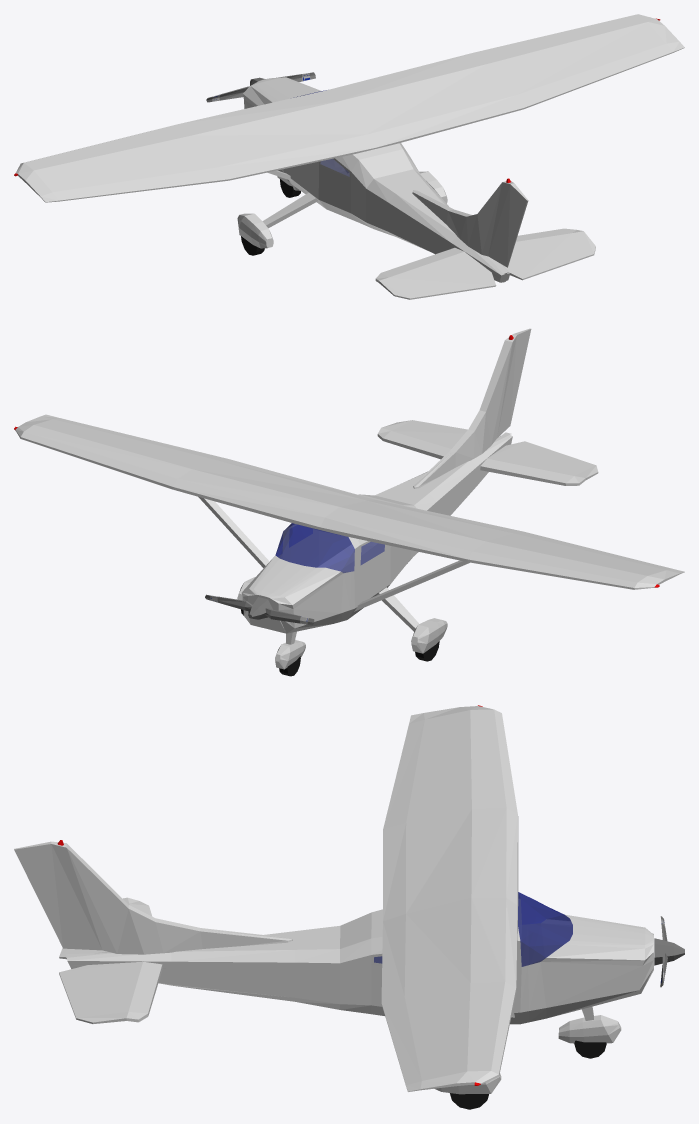
3 renders of one model, top to bottom at view 1: azimuth 30°, elevation 25°; view 2: azimuth 150°, elevation 25°; view 3: azimuth 270°, elevation 25°, orthographic. The views are drawn at different scales.
Visible parts, largest first — view 1: Plane_0, Plane-Propeller_1; view 2: Plane_0, Plane-Propeller_1; view 3: Plane_0, Plane-Propeller_1.
Boxes of the visible parts, <box> form: Plane_0: <box>14,14,684,299</box>; Plane-Propeller_1: <box>206,72,315,102</box>; Plane_0: <box>14,328,684,676</box>; Plane-Propeller_1: <box>205,594,314,625</box>; Plane_0: <box>14,705,653,1109</box>; Plane-Propeller_1: <box>654,916,684,987</box>.
Bounding box in the file's own units: 2.55 × 0.6744 × 1.91.
Materials: 6 (3 with a texture image).
